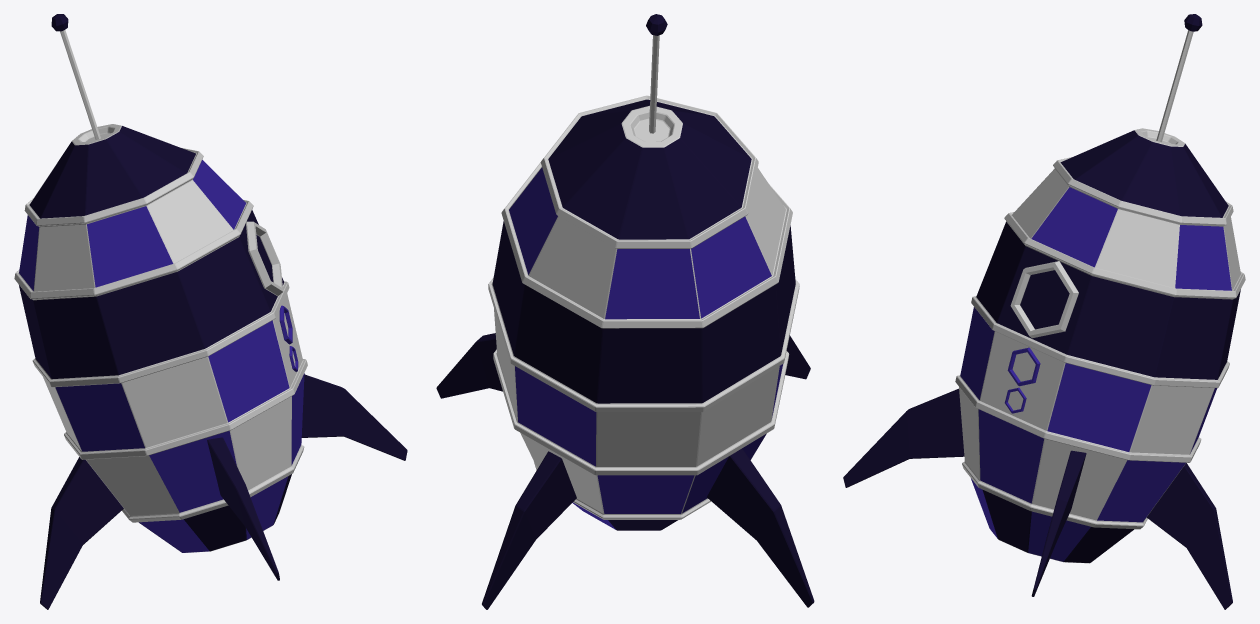
File: fusee.FBX
The picture shows the model from 3 angles, left to right: view 1: azimuth 30°, elevation 25°; view 2: azimuth 150°, elevation 25°; view 3: azimuth 270°, elevation 25°; orthographic projection. The views are drawn at different scales.
Parts seen in each view (by area): view 1: Cylinder006; view 2: Cylinder006; view 3: Cylinder006.
Part boxes in pixels (x1,y1,x2,y2): Cylinder006: (14, 14, 407, 609); Cylinder006: (436, 14, 814, 609); Cylinder006: (843, 14, 1245, 609).
Size of the model in its own units: 328 by 330 by 484.
